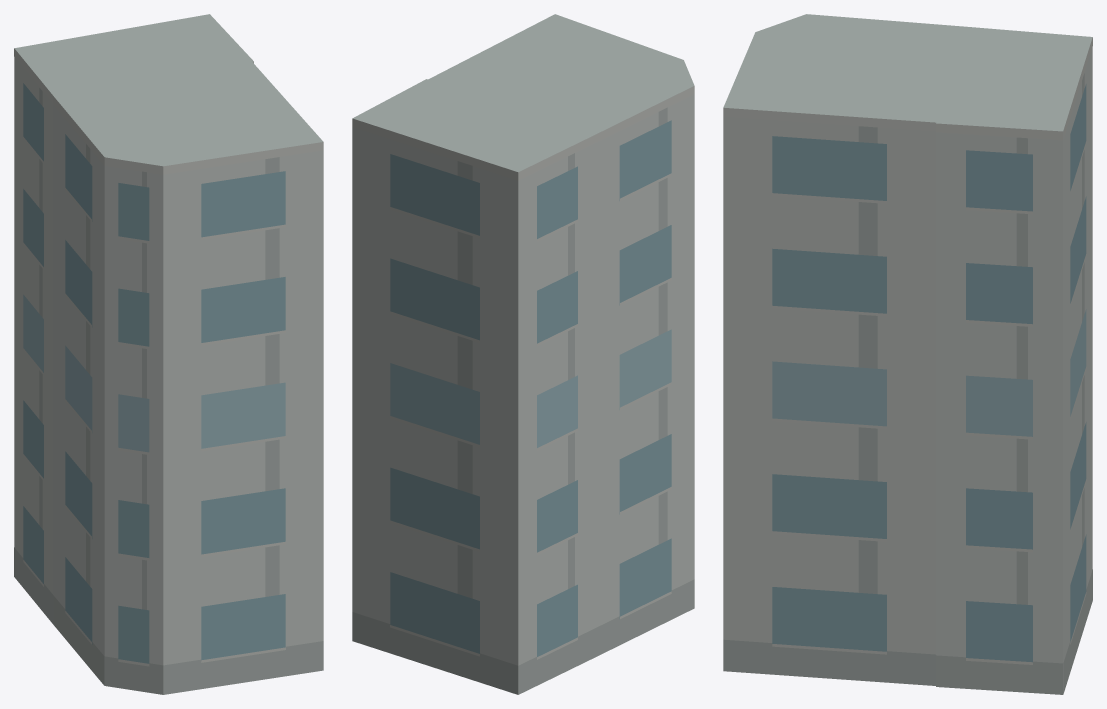
Rendered from survey-upis-32727118.glb.
The picture shows the model from 3 angles, left to right: view 1: azimuth 30°, elevation 25°; view 2: azimuth 150°, elevation 25°; view 3: azimuth 270°, elevation 25°; orthographic projection. The views are drawn at different scales.
Visible parts, largest first — view 1: survey-upis-32727118.tmp; view 2: survey-upis-32727118.tmp; view 3: survey-upis-32727118.tmp.
Boxes of the visible parts, <box> form: survey-upis-32727118.tmp: <box>14,14,323,694</box>; survey-upis-32727118.tmp: <box>352,14,694,694</box>; survey-upis-32727118.tmp: <box>723,14,1092,694</box>.
Bounding box in the file's own units: 6.83 × 15.25 × 9.07.
